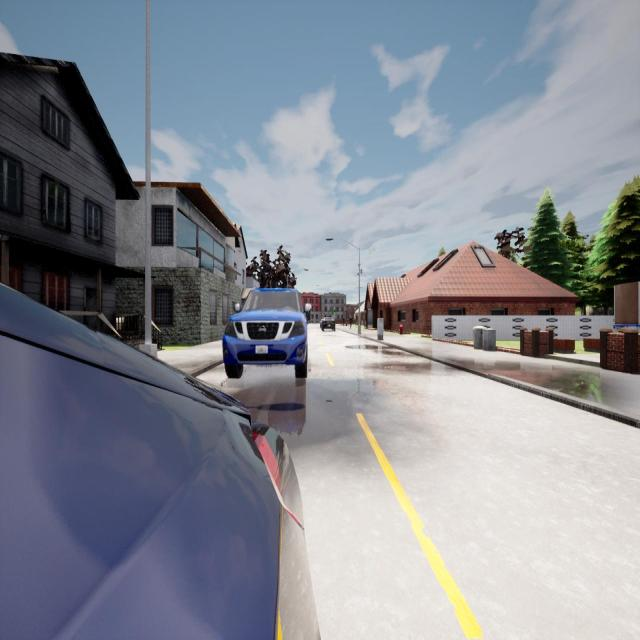Pedestrian: (349, 314, 352, 329)
Vehicle: (0, 285, 319, 638), (223, 288, 307, 377), (321, 317, 335, 332)
traffic_light: (334, 310, 336, 316)
